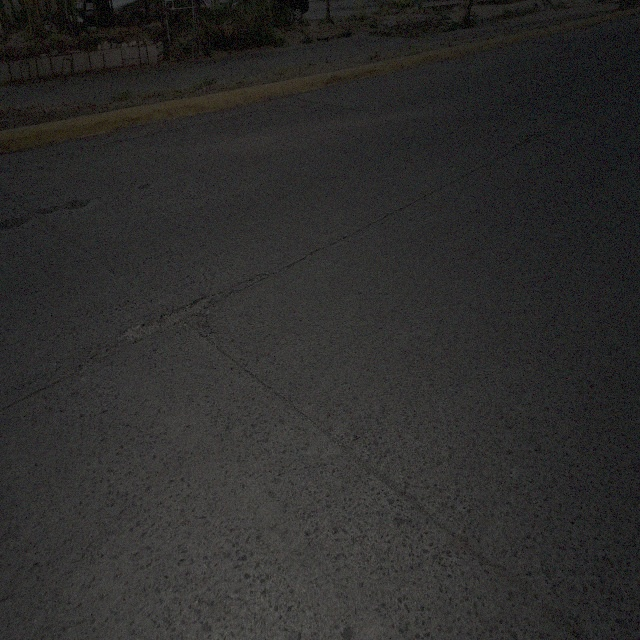pothole: (130, 285, 220, 347), (520, 128, 540, 149)
